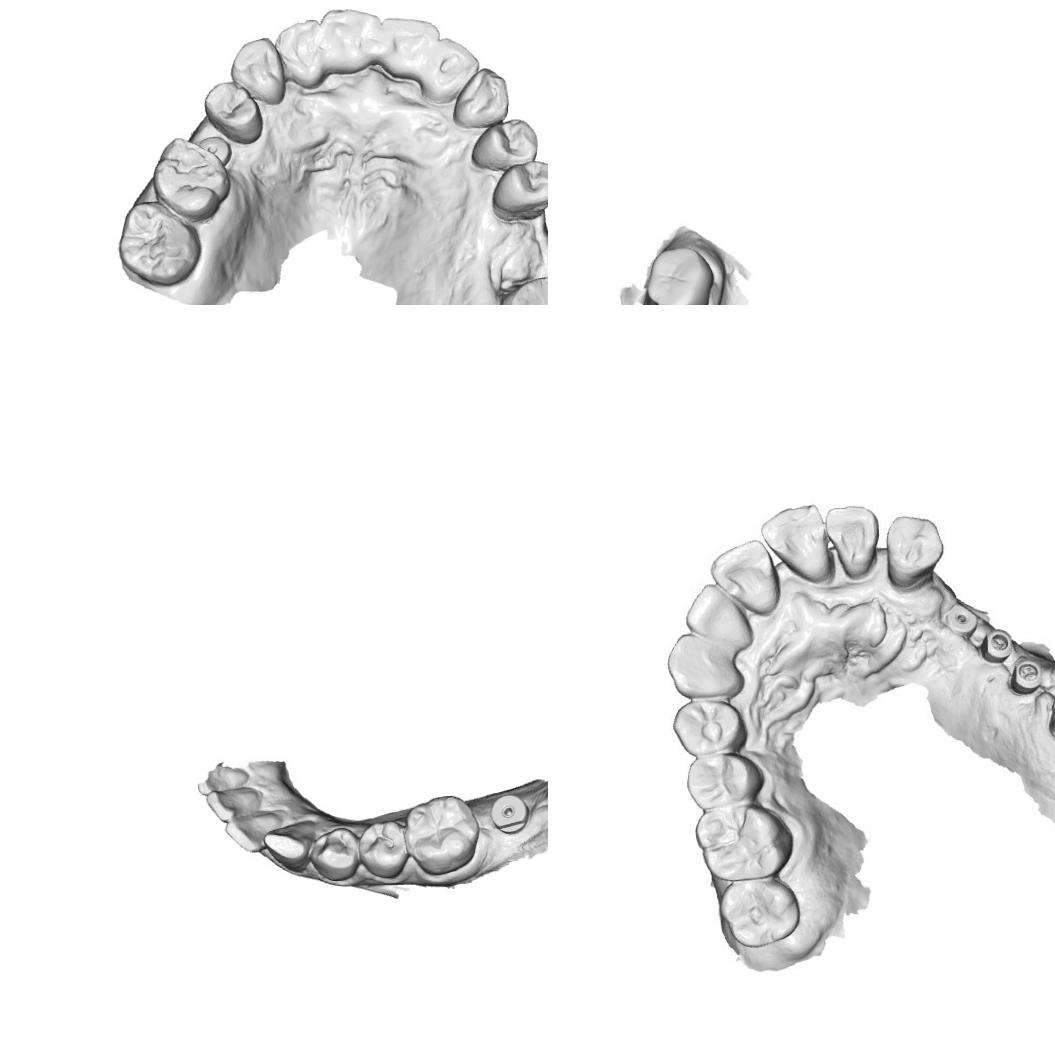canine: (662, 630, 748, 700), (882, 514, 946, 587), (229, 34, 287, 106), (451, 67, 510, 129), (262, 818, 316, 872)
implant: (937, 599, 980, 641), (489, 793, 530, 835), (196, 134, 234, 167), (1010, 659, 1044, 695), (982, 628, 1016, 661)
incisor: (755, 503, 836, 587), (708, 538, 782, 616), (683, 581, 756, 646), (823, 498, 880, 581), (419, 36, 481, 106), (321, 8, 383, 76), (378, 15, 442, 80), (274, 18, 325, 90), (223, 812, 284, 853), (204, 786, 264, 823), (196, 764, 250, 796)
molar: (692, 804, 796, 882), (116, 202, 205, 288), (152, 134, 233, 222), (403, 793, 481, 876), (718, 874, 802, 950), (643, 244, 716, 305), (498, 274, 548, 305)
premolar: (683, 750, 761, 810), (672, 698, 748, 756), (203, 79, 265, 147), (468, 117, 540, 173), (487, 159, 548, 222), (358, 819, 408, 880), (308, 826, 362, 882)
